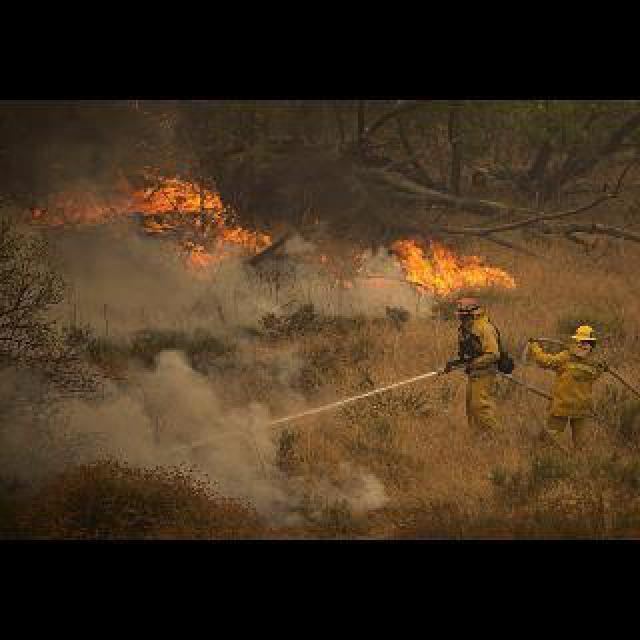fire: (7, 363, 306, 526), (30, 230, 291, 337), (260, 253, 408, 326)
smoke: (42, 166, 272, 270), (314, 230, 516, 294)
